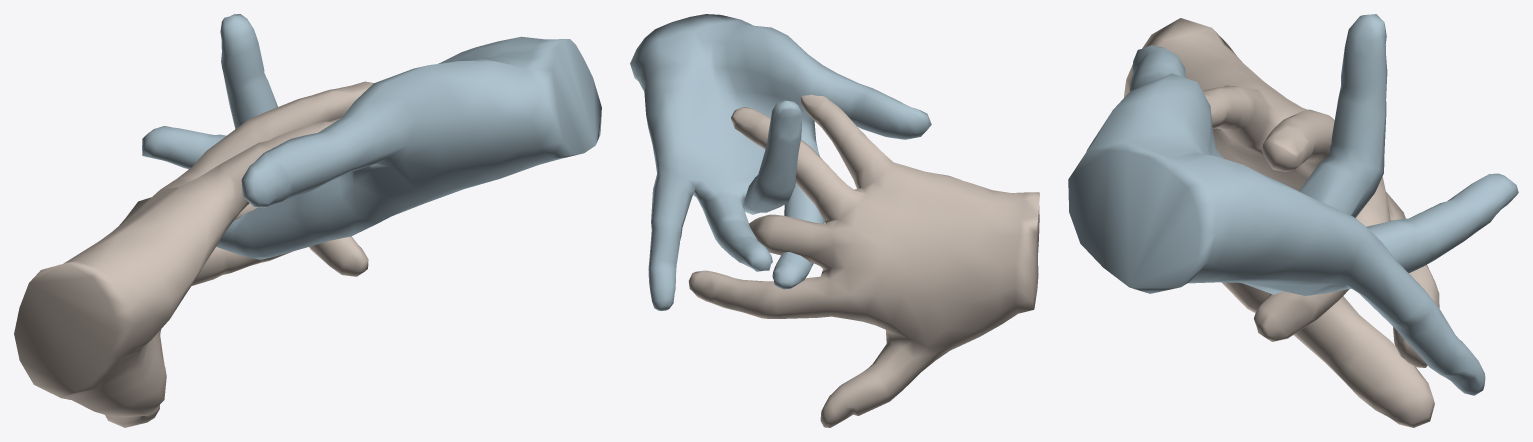
The picture shows the model from 3 angles, left to right: view 1: azimuth 30°, elevation 25°; view 2: azimuth 150°, elevation 25°; view 3: azimuth 270°, elevation 25°; orthographic projection. The views are drawn at different scales.
Bounding box in the file's own units: 0.2353 × 0.1613 × 0.145.
